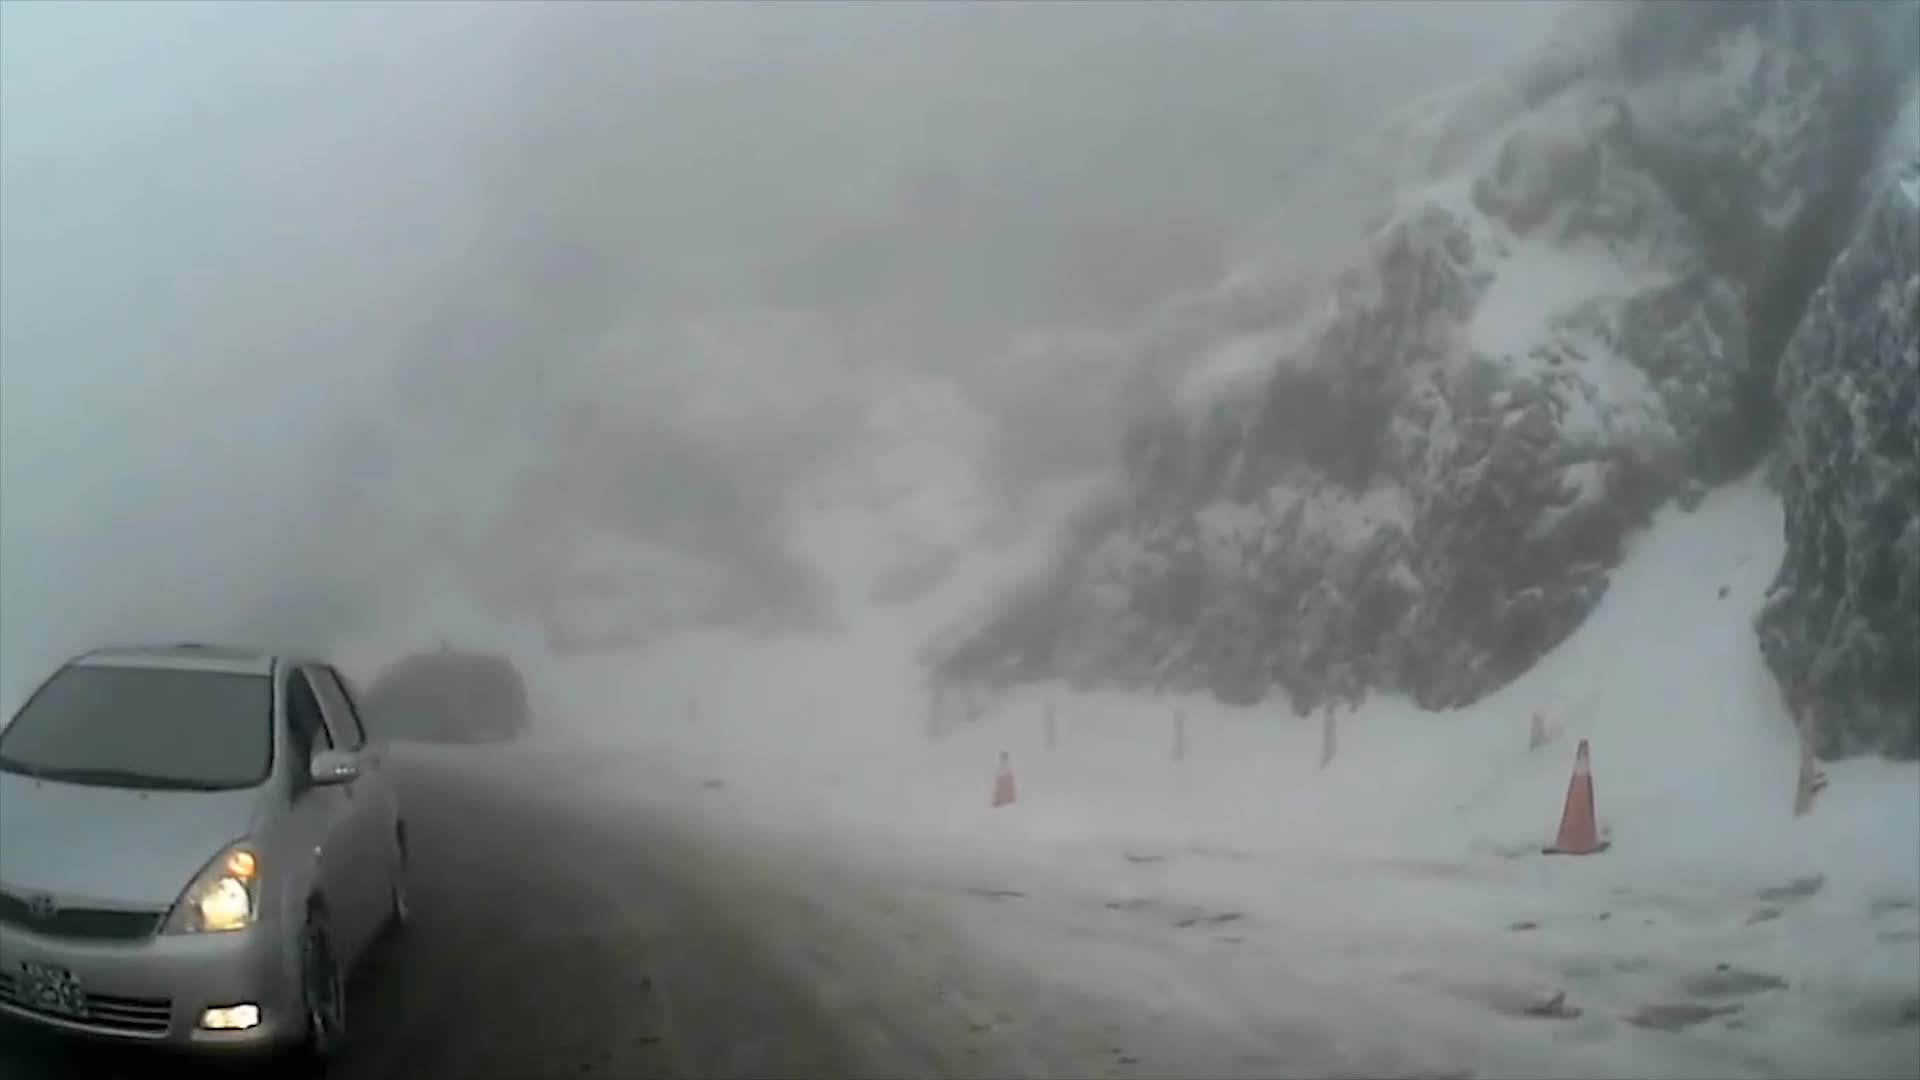vehicle: (0, 638, 413, 1073)
